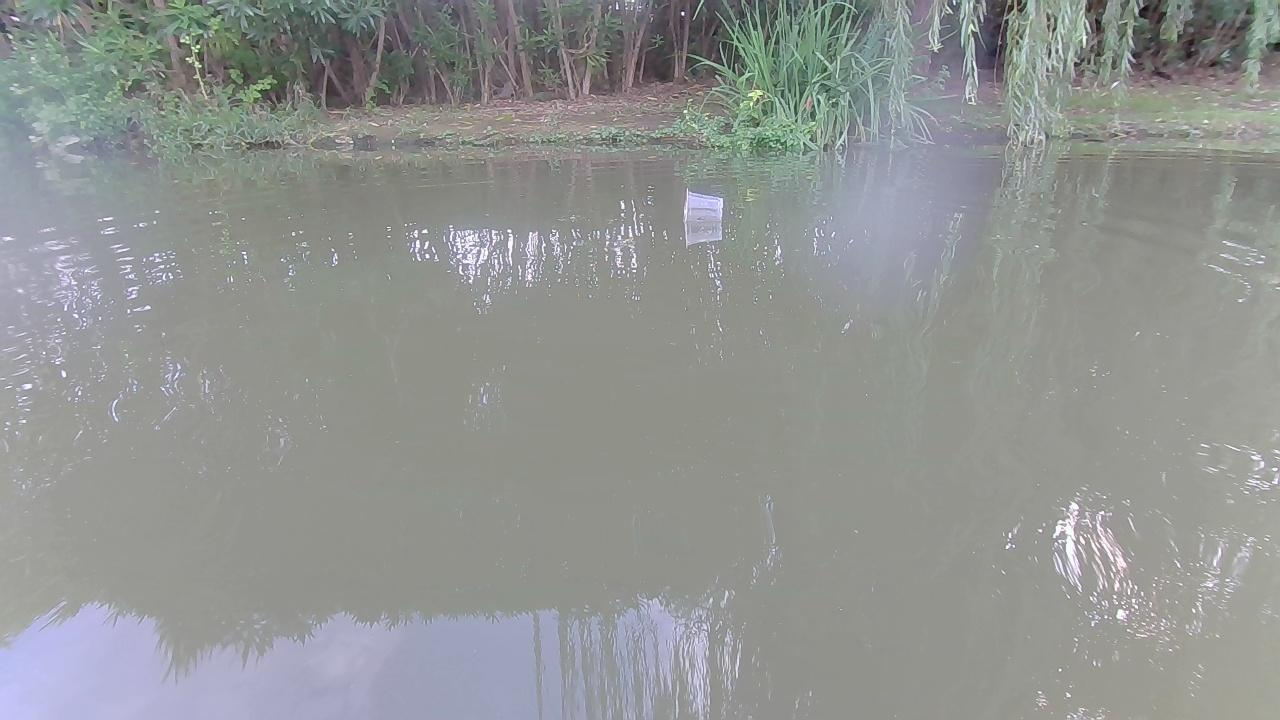bottle: (681, 187, 724, 214)
